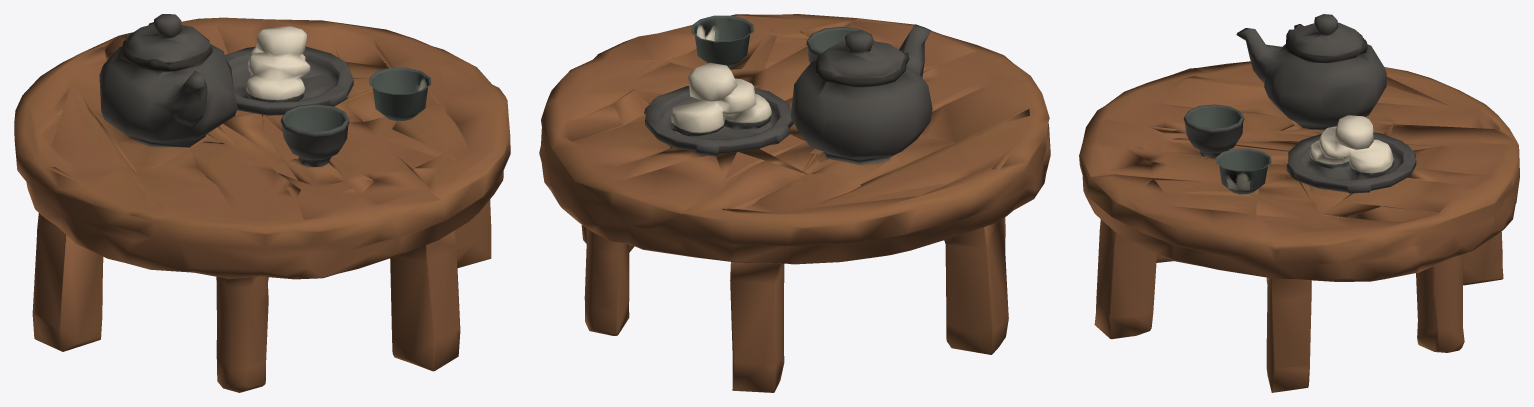
File: tea-table.glb
3 renders of one model, left to right at view 1: azimuth 30°, elevation 25°; view 2: azimuth 150°, elevation 25°; view 3: azimuth 270°, elevation 25°, orthographic. The views are drawn at different scales.
Parts seen in each view (by area): view 1: tripo_node_e2ca1594-d050-4f51-bccf-692a7a099bc8; view 2: tripo_node_e2ca1594-d050-4f51-bccf-692a7a099bc8; view 3: tripo_node_e2ca1594-d050-4f51-bccf-692a7a099bc8.
Part boxes in pixels (<box>): tripo_node_e2ca1594-d050-4f51-bccf-692a7a099bc8: <box>14,14,510,392</box>; tripo_node_e2ca1594-d050-4f51-bccf-692a7a099bc8: <box>539,14,1050,392</box>; tripo_node_e2ca1594-d050-4f51-bccf-692a7a099bc8: <box>1079,14,1519,392</box>.
Size of the model in its own units: 1 by 0.6301 by 0.998.
1 material, 1 textured.
